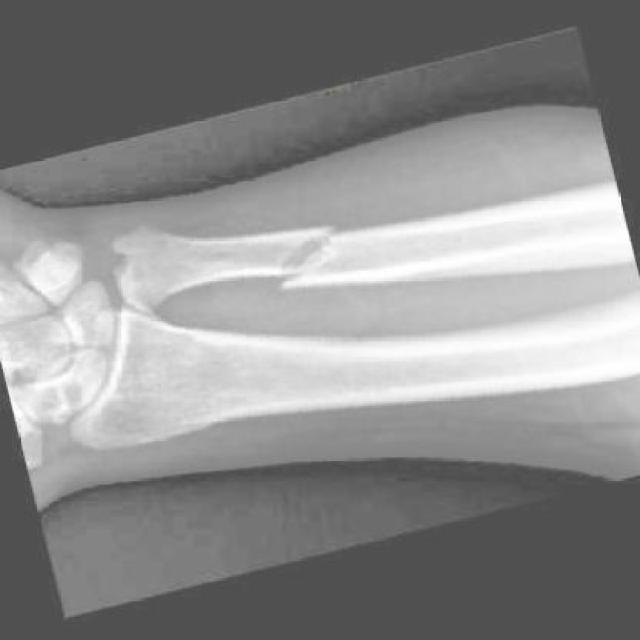Fracture: (257, 218, 353, 302)
